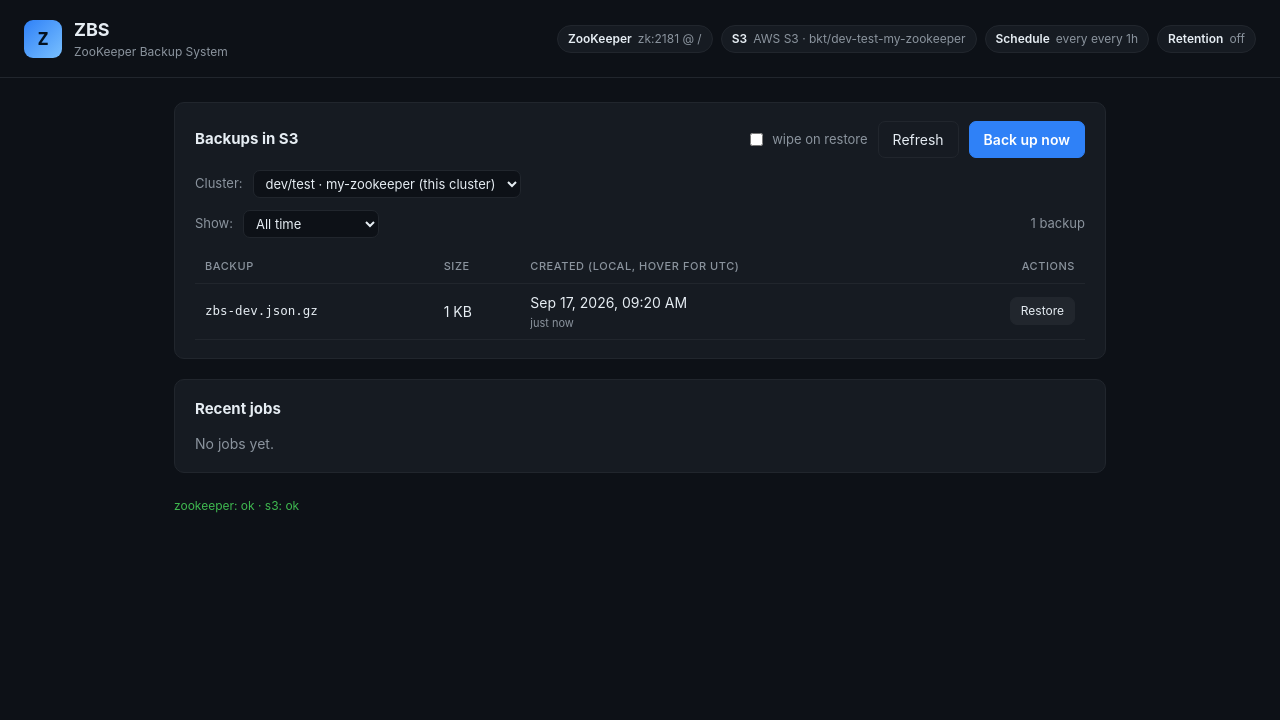
App integration › ignores a stale backups response that resolves after switching clusters
The width and height of the screenshot is (1280, 720).
Expected: the text "zbs-dev.json.gz" is shown, [195, 283, 434, 340]
// Switch to prod: request goes out and stays pending.
Select "prod/payments · zk" in the dropdown titled "Choose which cluster's backups to view" at (386, 184), box [252, 170, 520, 198]
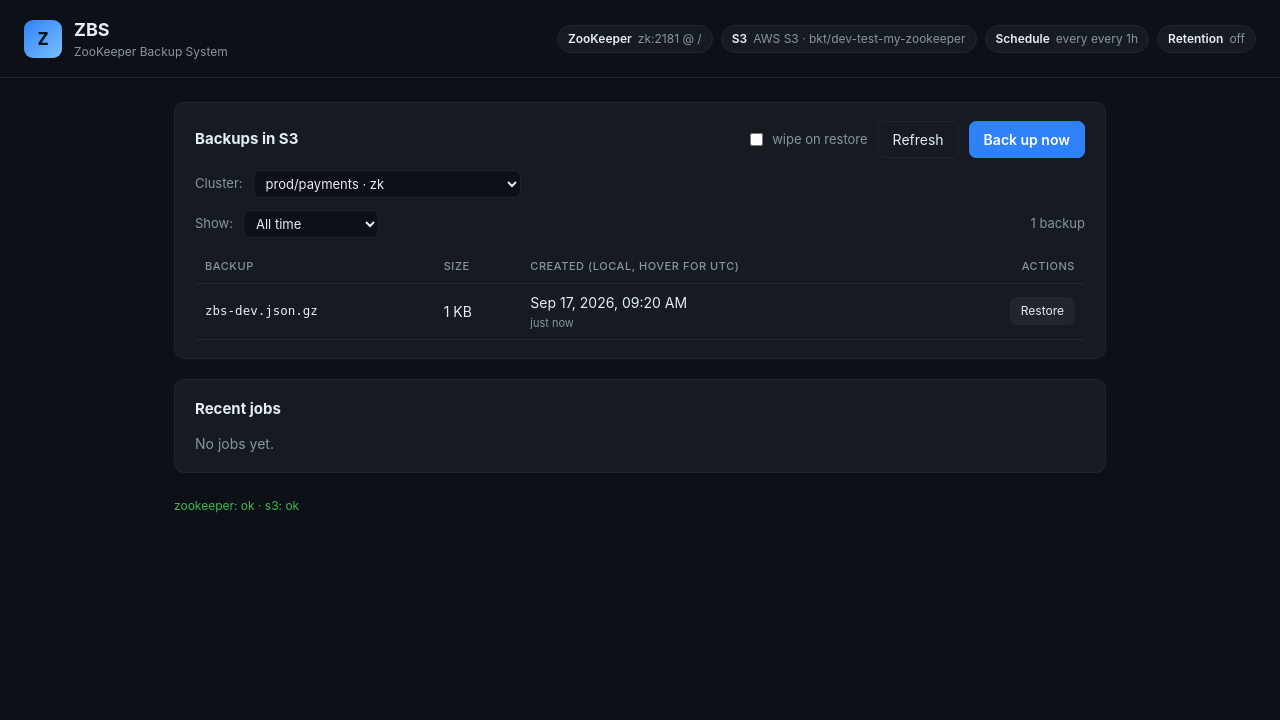
// Switch back to dev quickly: prod request is superseded.
Select "dev/test · my-zookeeper (this cluster)" in the dropdown titled "Choose which cluster's backups to view" at (386, 184), box [252, 170, 520, 198]
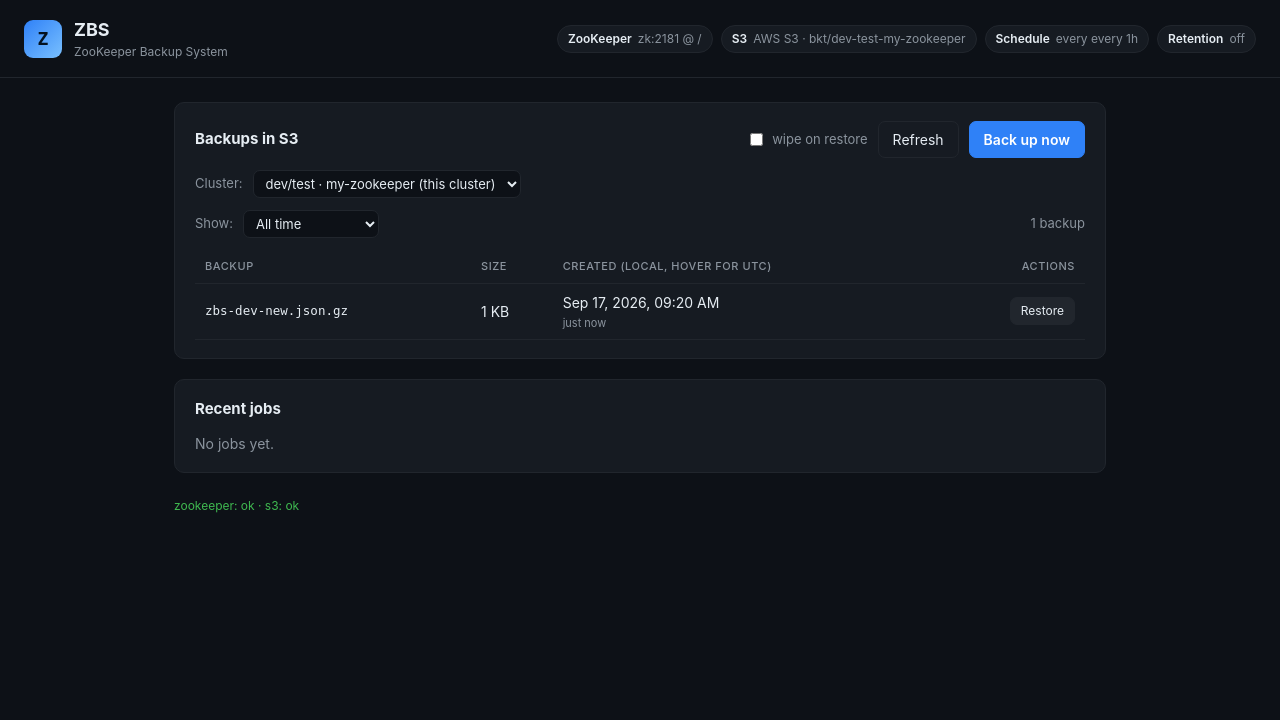
Now the text "zbs-dev-new.json.gz" is shown, box [195, 283, 471, 340]
